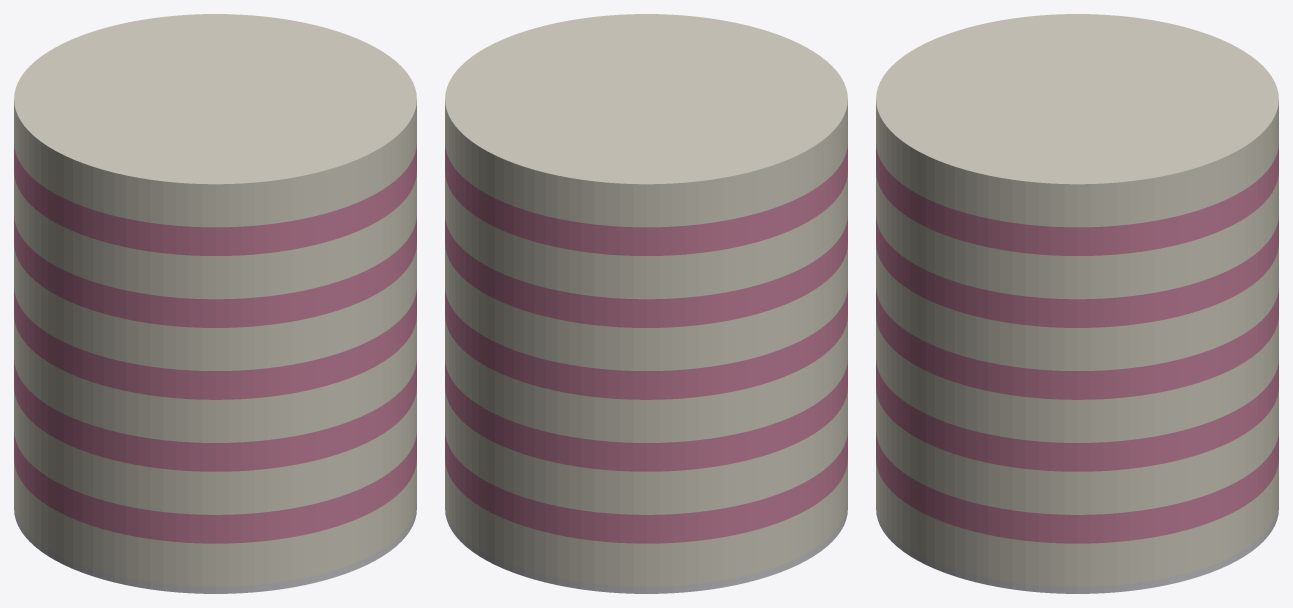
File: cake_10in_layers6.glb
3 renders of one model, left to right at view 1: azimuth 30°, elevation 25°; view 2: azimuth 150°, elevation 25°; view 3: azimuth 270°, elevation 25°, orthographic.
Parts seen in each view (by area): view 1: geometry_10, geometry_2, geometry_4, geometry_0, geometry_8, geometry_6, geometry_1, geometry_3, geometry_7, geometry_5, geometry_9, geometry_11; view 2: geometry_10, geometry_2, geometry_4, geometry_0, geometry_8, geometry_6, geometry_1, geometry_3, geometry_7, geometry_5, geometry_9, geometry_11; view 3: geometry_10, geometry_2, geometry_4, geometry_0, geometry_8, geometry_6, geometry_1, geometry_3, geometry_7, geometry_5, geometry_9, geometry_11.
Part boxes in pixels (<box>): geometry_10: <box>14,14,416,227</box>; geometry_2: <box>14,388,416,514</box>; geometry_4: <box>14,316,416,442</box>; geometry_0: <box>14,460,416,586</box>; geometry_8: <box>14,173,416,299</box>; geometry_6: <box>14,244,416,370</box>; geometry_1: <box>14,431,416,543</box>; geometry_3: <box>14,359,416,471</box>; geometry_7: <box>14,216,416,327</box>; geometry_5: <box>14,288,416,399</box>; geometry_9: <box>14,144,416,255</box>; geometry_11: <box>14,503,416,593</box>; geometry_10: <box>445,14,847,227</box>; geometry_2: <box>445,388,847,514</box>; geometry_4: <box>445,316,847,442</box>; geometry_0: <box>445,460,847,586</box>; geometry_8: <box>445,173,847,299</box>; geometry_6: <box>445,244,847,370</box>; geometry_1: <box>445,431,847,543</box>; geometry_3: <box>445,359,847,471</box>; geometry_7: <box>445,216,847,327</box>; geometry_5: <box>445,288,847,399</box>; geometry_9: <box>445,144,847,255</box>; geometry_11: <box>445,503,847,593</box>; geometry_10: <box>876,14,1278,227</box>; geometry_2: <box>876,388,1278,514</box>; geometry_4: <box>876,316,1278,442</box>; geometry_0: <box>876,460,1278,586</box>; geometry_8: <box>876,173,1278,299</box>; geometry_6: <box>876,244,1278,370</box>; geometry_1: <box>876,431,1278,543</box>; geometry_3: <box>876,359,1278,471</box>; geometry_7: <box>876,216,1278,327</box>; geometry_5: <box>876,288,1278,399</box>; geometry_9: <box>876,144,1278,255</box>; geometry_11: <box>876,503,1278,593</box>.
Size of the model in its own units: 0.254 by 0.285 by 0.254.
